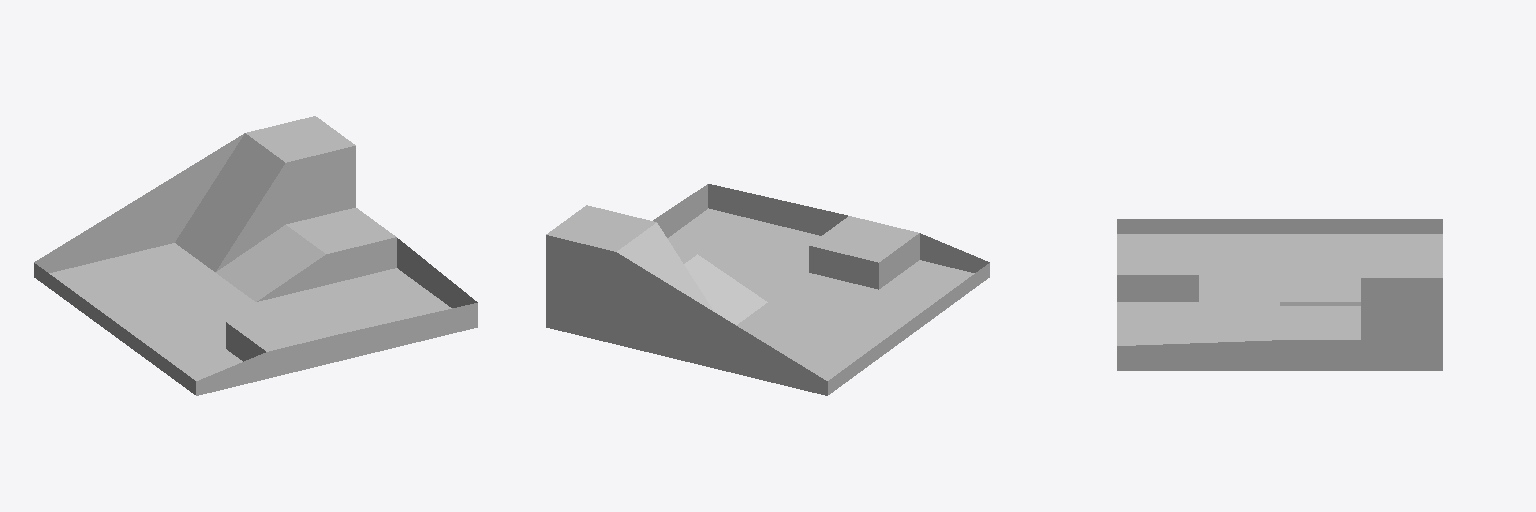
Rendered from sandbox.obj.
3 renders of one model, left to right at view 1: azimuth 30°, elevation 25°; view 2: azimuth 150°, elevation 25°; view 3: azimuth 270°, elevation 25°, orthographic.
Visible parts, largest first — view 1: Cube.001; view 2: Cube.001; view 3: Cube.001.
Boxes of the visible parts, box(x1,y1,x2,y2) form: Cube.001: box(34, 116, 477, 395); Cube.001: box(546, 184, 989, 395); Cube.001: box(1117, 219, 1442, 370).
Size of the model in its own units: 40 by 12.57 by 40.